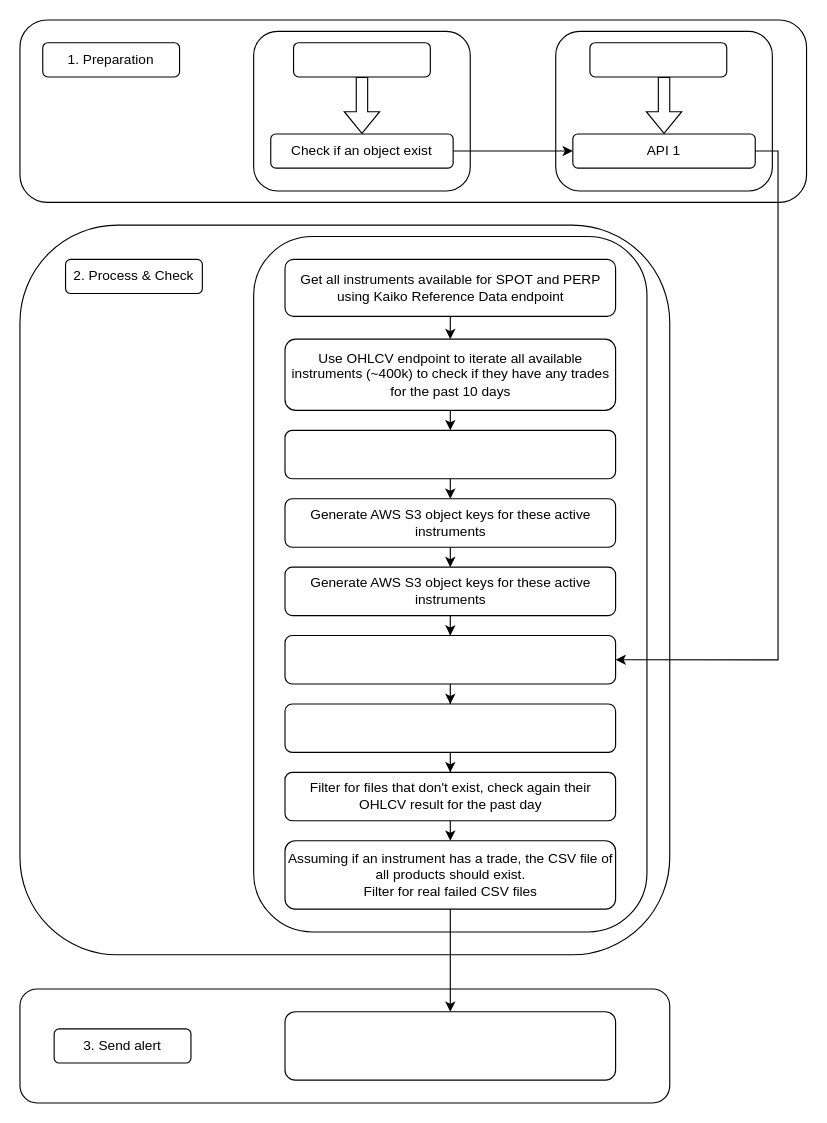
The diagram is 827 pixels wide and 1123 high, and some of its shapes have lost their labels. Each missing label, with the box of its shape:
AWS API Gateway: (589, 42, 727, 77)
AWS Lambda: (292, 42, 430, 77)
Filter for those that have trades for the past 10 days: (284, 429, 616, 479)
Save all the results: (284, 703, 616, 752)
Send alert to slack channel for general report and failed CSV file information: (284, 1011, 616, 1080)
Use API to check if these objects exist: (284, 634, 616, 684)
